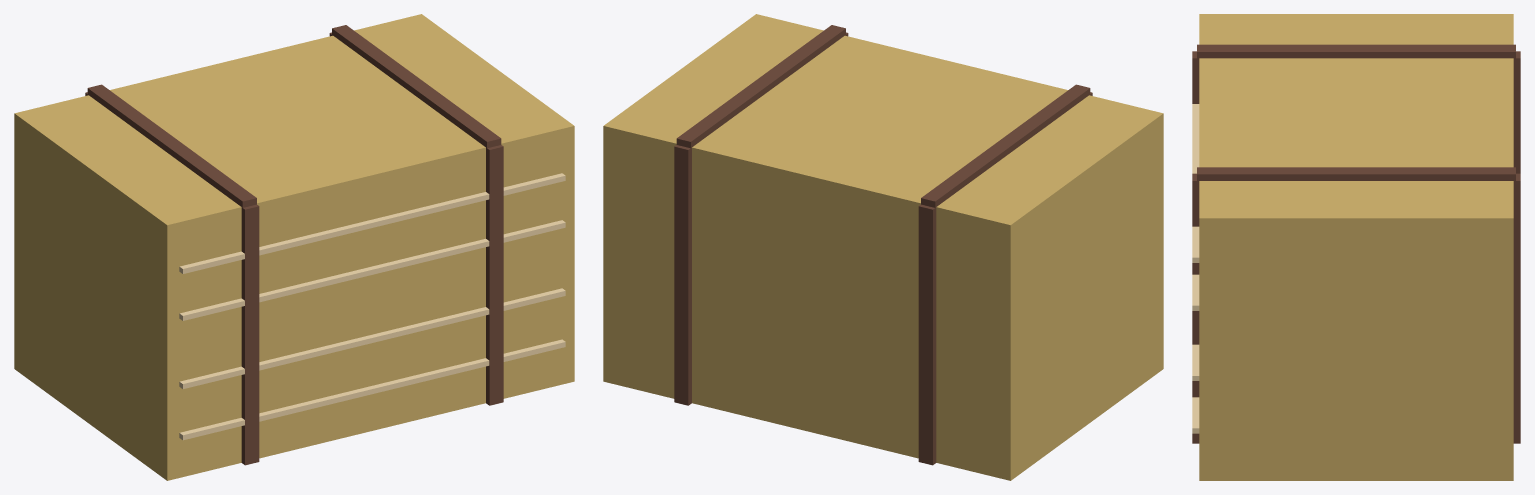
File: hay_bale.glb
The picture shows the model from 3 angles, left to right: view 1: azimuth 30°, elevation 25°; view 2: azimuth 150°, elevation 25°; view 3: azimuth 270°, elevation 25°; orthographic projection. The views are drawn at different scales.
Visible parts, largest first — view 1: straw, twine_side, twine_side.002, twine_top, twine_top.001, straw_ridge.002, straw_ridge.001, straw_ridge, straw_ridge.003; view 2: straw, twine_side.001, twine_side.003, twine_top, twine_top.001; view 3: straw, twine_top, twine_top.001, twine_side.003, twine_side.002, twine_side.001, straw_ridge.003, twine_side.
Part boxes in pixels (left/top/right/bottom): straw: left=14, top=14, right=574, bottom=480; twine_side: left=241, top=204, right=259, bottom=465; twine_side.002: left=486, top=145, right=503, bottom=405; twine_top: left=87, top=84, right=256, bottom=209; twine_top.001: left=332, top=25, right=501, bottom=149; straw_ridge.002: left=179, top=220, right=565, bottom=320; straw_ridge.001: left=179, top=288, right=565, bottom=388; straw_ridge: left=179, top=339, right=565, bottom=440; straw_ridge.003: left=179, top=173, right=565, bottom=273; straw: left=603, top=14, right=1163, bottom=480; twine_side.001: left=918, top=204, right=936, bottom=465; twine_side.003: left=674, top=145, right=691, bottom=405; twine_top: left=921, top=84, right=1090, bottom=209; twine_top.001: left=676, top=25, right=845, bottom=148; straw: left=1199, top=14, right=1513, bottom=480; twine_top: left=1197, top=44, right=1515, bottom=60; twine_top.001: left=1197, top=167, right=1515, bottom=182; twine_side.003: left=1513, top=173, right=1520, bottom=443; twine_side.002: left=1192, top=173, right=1199, bottom=443; twine_side.001: left=1513, top=51, right=1520, bottom=173; straw_ridge.003: left=1192, top=104, right=1199, bottom=262; twine_side: left=1192, top=51, right=1199, bottom=103.
Size of the model in its own units: 1 by 0.615 by 0.68.
